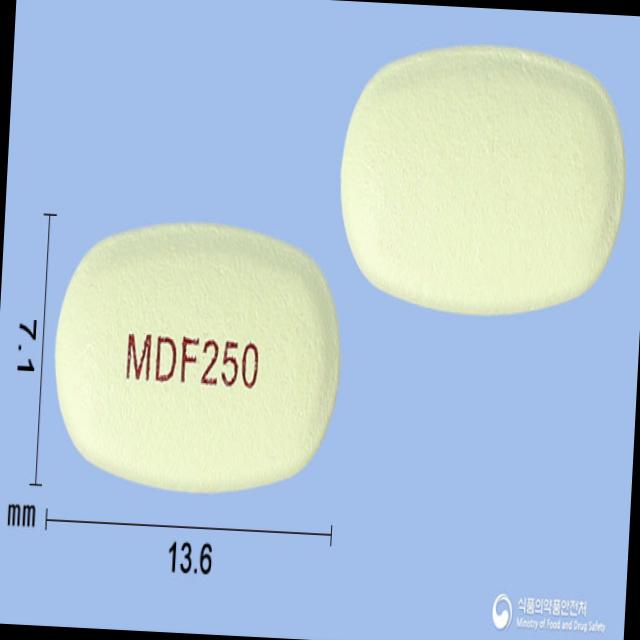Clarid - 250mg: (45, 212, 352, 507)
